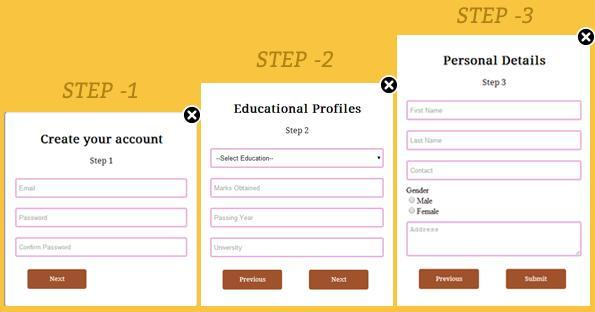button: (420, 270, 479, 291), (506, 269, 567, 289), (311, 271, 370, 290), (29, 271, 87, 290), (224, 272, 282, 291)
dropdown: (212, 151, 385, 168)
input: (408, 223, 582, 257), (17, 179, 188, 199), (409, 102, 582, 121), (408, 132, 582, 150), (212, 209, 385, 227), (408, 163, 581, 181), (212, 181, 384, 199), (212, 240, 384, 258), (16, 240, 188, 257), (17, 210, 187, 226)
label: (418, 208, 441, 217), (406, 187, 431, 195), (418, 197, 434, 205)
radio: (408, 207, 418, 218), (408, 197, 417, 206)
